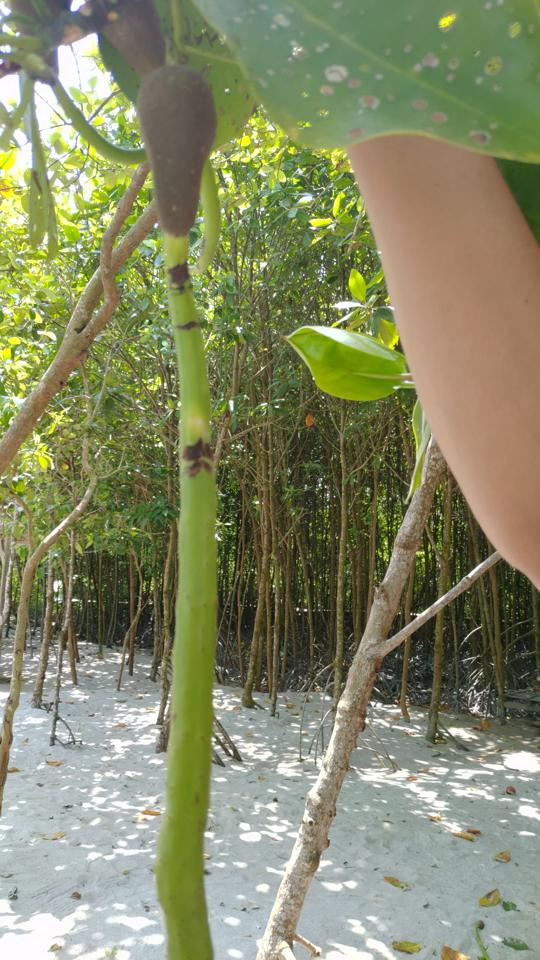setengah matang: (127, 37, 234, 956)
